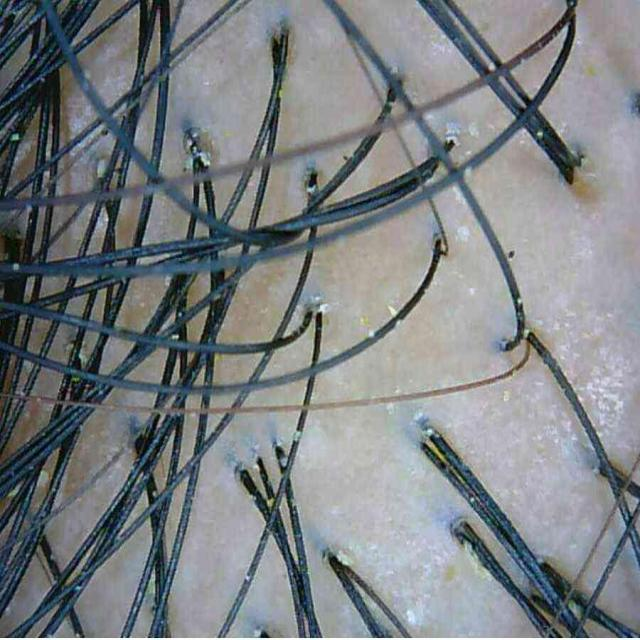d: (444, 121, 460, 146), (196, 147, 211, 168), (336, 550, 352, 567), (456, 225, 470, 242), (452, 187, 466, 204), (96, 158, 108, 177), (412, 408, 425, 424), (8, 483, 21, 498), (468, 123, 480, 138), (182, 154, 192, 170), (38, 471, 49, 485), (388, 305, 398, 317), (502, 389, 511, 402), (191, 126, 200, 139), (184, 137, 194, 148), (318, 305, 330, 314), (464, 166, 472, 179), (465, 151, 471, 156)
o: (576, 346, 640, 442)
